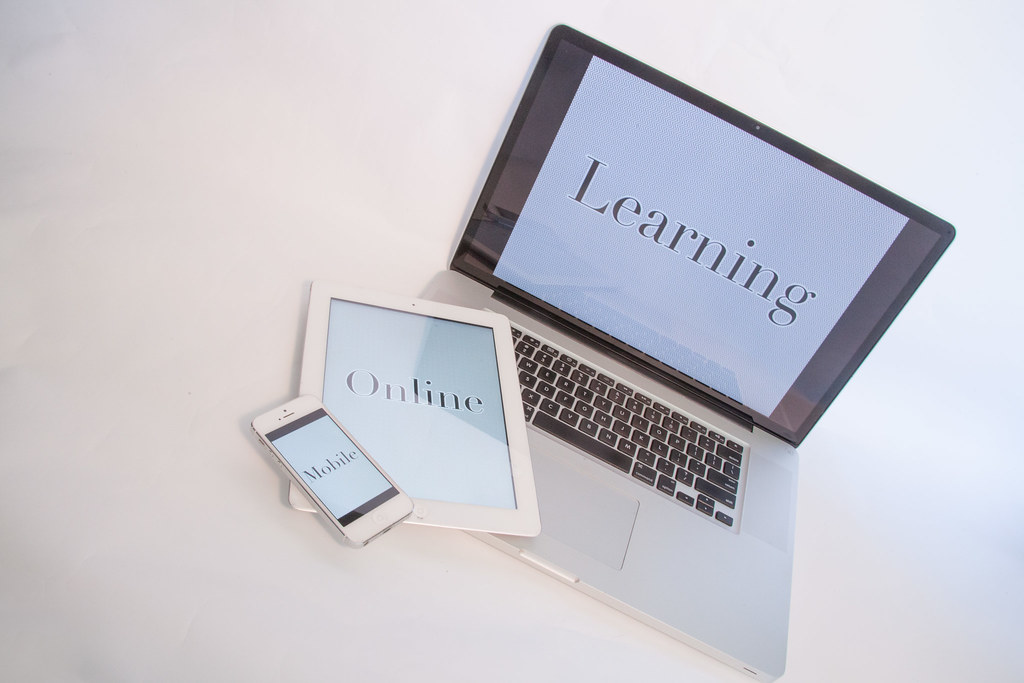Cell Phone: (281, 277, 548, 544), (245, 395, 415, 552)
